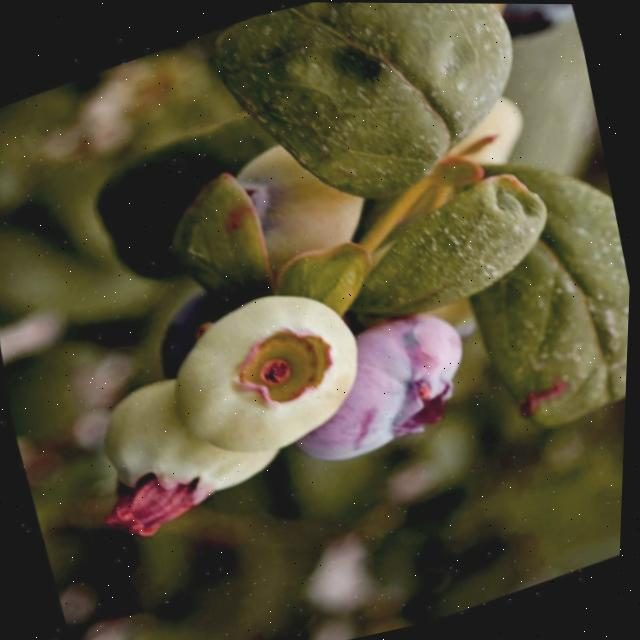RipeBlueBerry: (258, 290, 499, 482)
UnripeBlueBerry: (142, 260, 392, 481)
